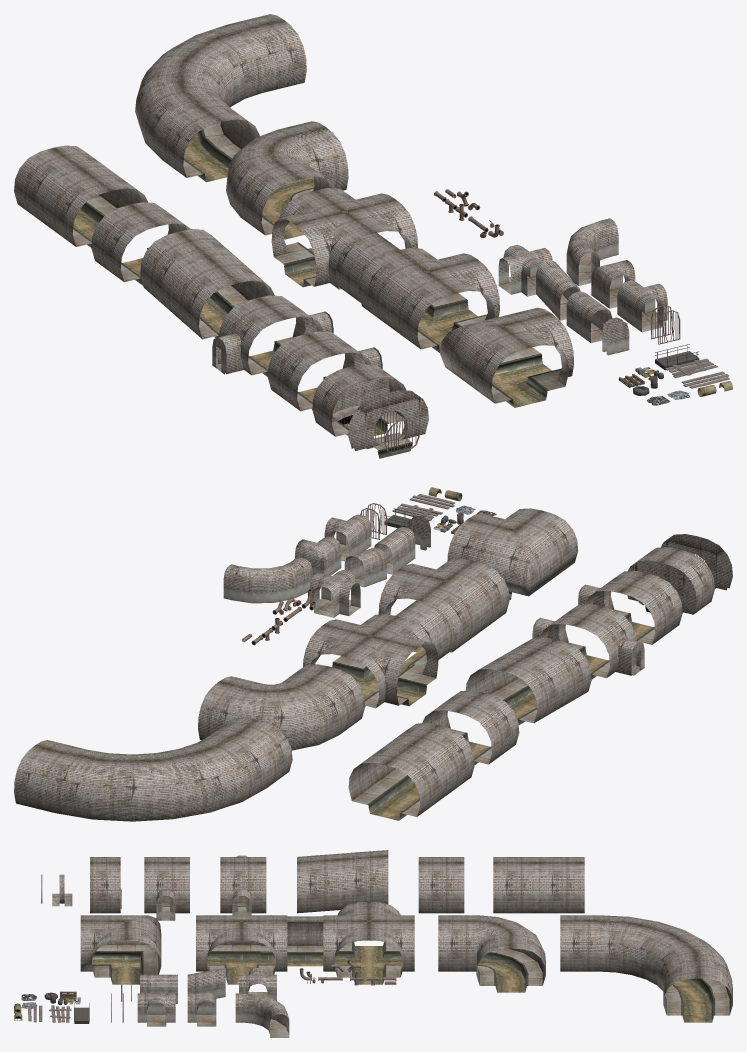
File: Sewers.dae
The picture shows the model from 3 angles, top to bottom: view 1: azimuth 30°, elevation 25°; view 2: azimuth 150°, elevation 25°; view 3: azimuth 270°, elevation 25°; orthographic projection. The views are drawn at different scales.
Visible parts, largest first — view 1: Sewers_11, Sewers_08, Sewers_07, Sewers_10, Sewers_02, Sewers_09, Sewers, Sewers_03, Sewers_04, Sewers_05, Sewers_01, Sewers_06 (+7 smaller); view 2: Sewers_11, Sewers_10, Sewers, Sewers_09, Sewers_07, Sewers_02, Sewers_08, Sewers_03, Sewers_04, Sewers_01, Sewers_17, Sewers_05 (+7 smaller); view 3: Sewers_11, Sewers_10, Sewers_09, Sewers_08, Sewers, Sewers_07, Sewers_02, Sewers_04, Sewers_03, Sewers_01, Plane.001, Sewers_05 (+7 smaller).
Boxes of the visible parts, bbox=[...] form: Sewers_11: bbox=[135, 14, 306, 182]; Sewers_08: bbox=[358, 248, 499, 352]; Sewers_07: bbox=[440, 307, 573, 407]; Sewers_10: bbox=[226, 121, 348, 239]; Sewers_02: bbox=[140, 229, 274, 339]; Sewers_09: bbox=[271, 188, 417, 289]; Sewers: bbox=[14, 145, 148, 247]; Sewers_03: bbox=[212, 295, 333, 376]; Sewers_04: bbox=[267, 331, 382, 411]; Sewers_05: bbox=[312, 364, 406, 436]; Sewers_01: bbox=[91, 202, 190, 285]; Sewers_06: bbox=[348, 390, 428, 458]; Sewers_11: bbox=[14, 717, 292, 821]; Sewers_10: bbox=[198, 664, 365, 750]; Sewers: bbox=[348, 723, 474, 820]; Sewers_09: bbox=[303, 614, 438, 708]; Sewers_07: bbox=[447, 508, 578, 599]; Sewers_02: bbox=[466, 637, 591, 724]; Sewers_08: bbox=[378, 558, 509, 653]; Sewers_03: bbox=[532, 604, 644, 679]; Sewers_04: bbox=[578, 571, 682, 644]; Sewers_01: bbox=[422, 690, 519, 764]; Sewers_17: bbox=[223, 557, 312, 603]; Sewers_05: bbox=[627, 547, 714, 614]; Sewers_11: bbox=[560, 915, 732, 1022]; Sewers_10: bbox=[438, 915, 545, 992]; Sewers_09: bbox=[323, 902, 414, 984]; Sewers_08: bbox=[196, 915, 287, 984]; Sewers: bbox=[493, 857, 584, 913]; Sewers_07: bbox=[80, 915, 161, 984]; Sewers_02: bbox=[297, 850, 388, 913]; Sewers_04: bbox=[144, 857, 189, 920]; Sewers_03: bbox=[220, 855, 266, 915]; Sewers_01: bbox=[418, 857, 464, 913]; Plane.001: bbox=[260, 916, 328, 966]; Sewers_05: bbox=[90, 857, 120, 913].
Bounding box in the file's own units: 49.27 × 94.37 × 7.38.
